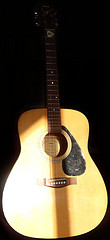guitar: (1, 1, 110, 240)
